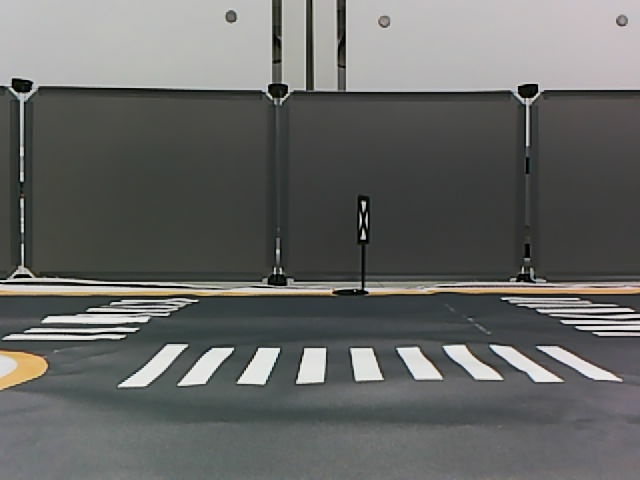crosswalk: (111, 339, 624, 387)
